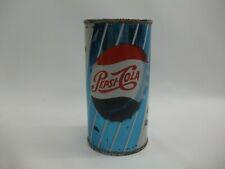metal: (85, 19, 153, 154)
